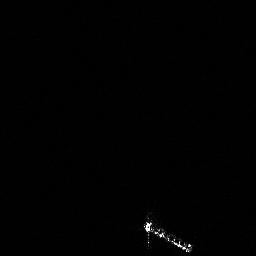ship: (140, 214, 195, 255)
